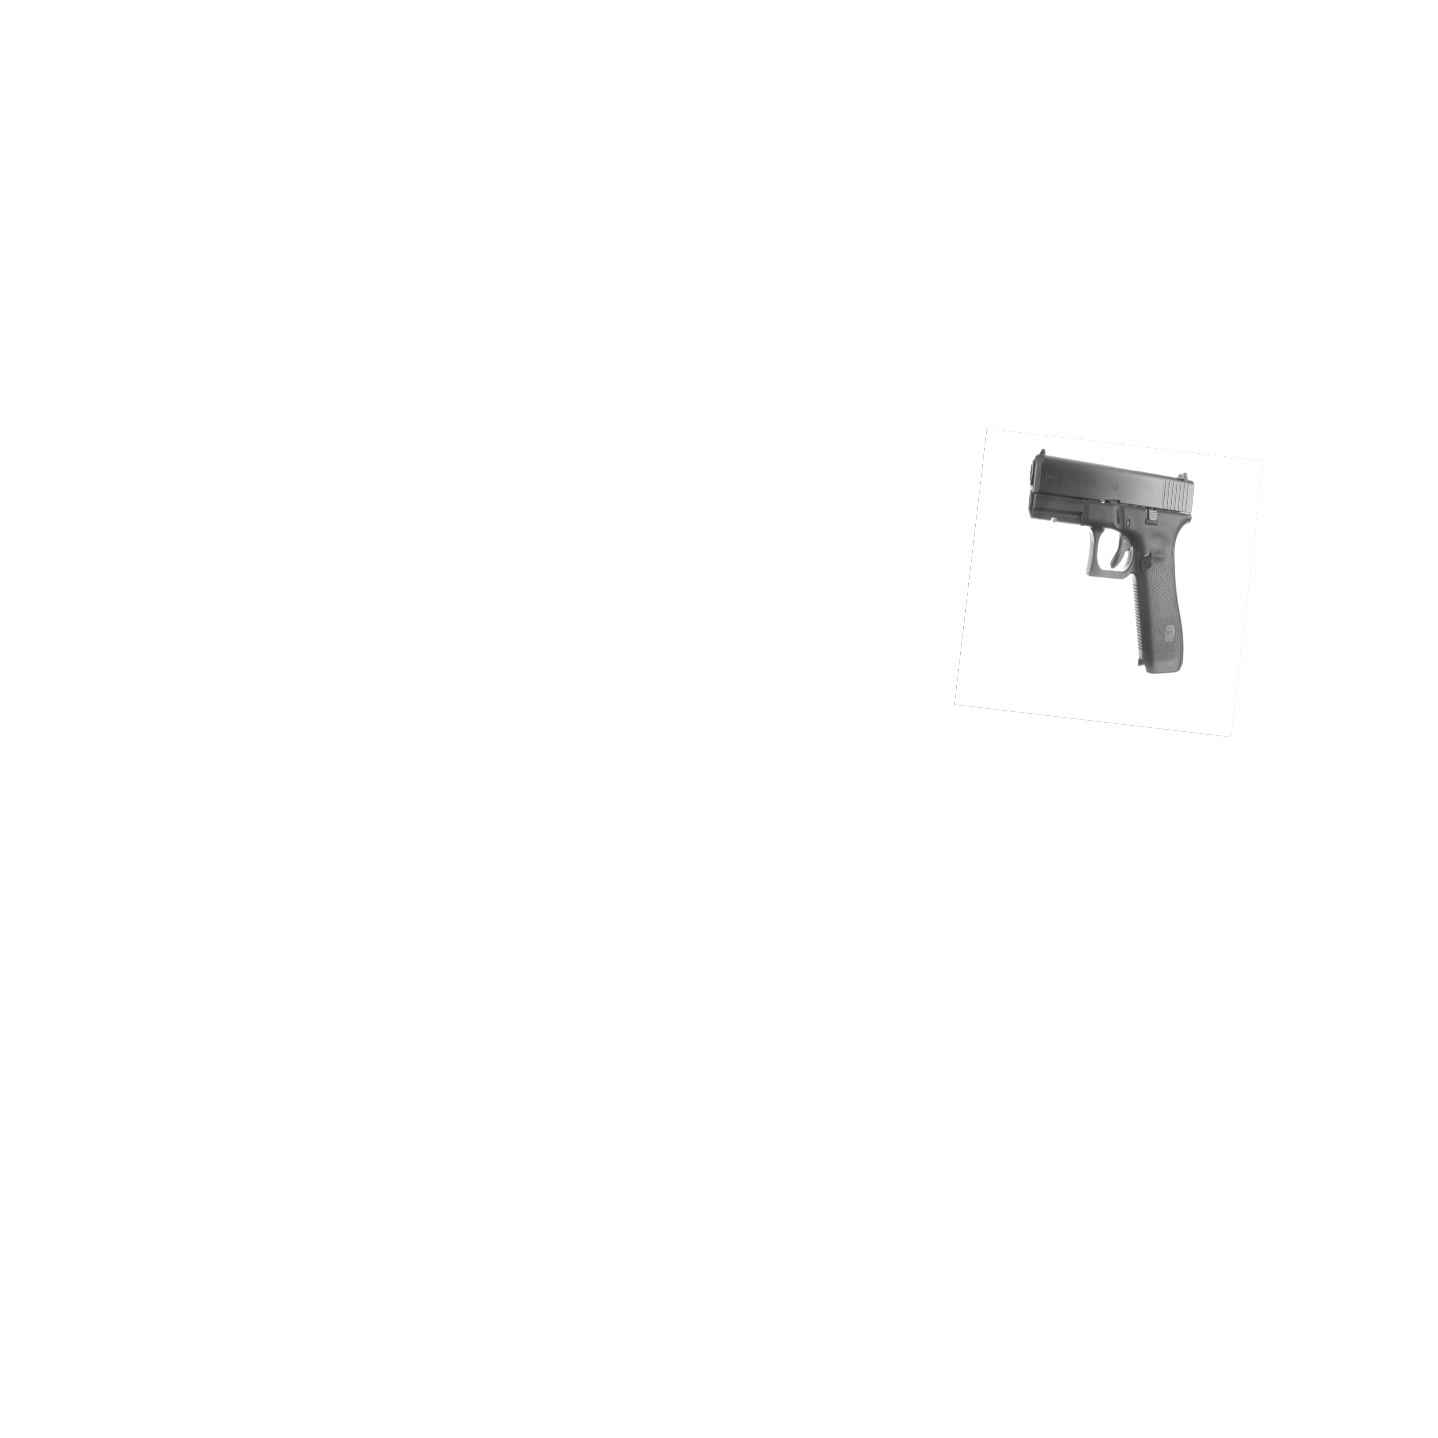gun: (1017, 444, 1200, 683)
